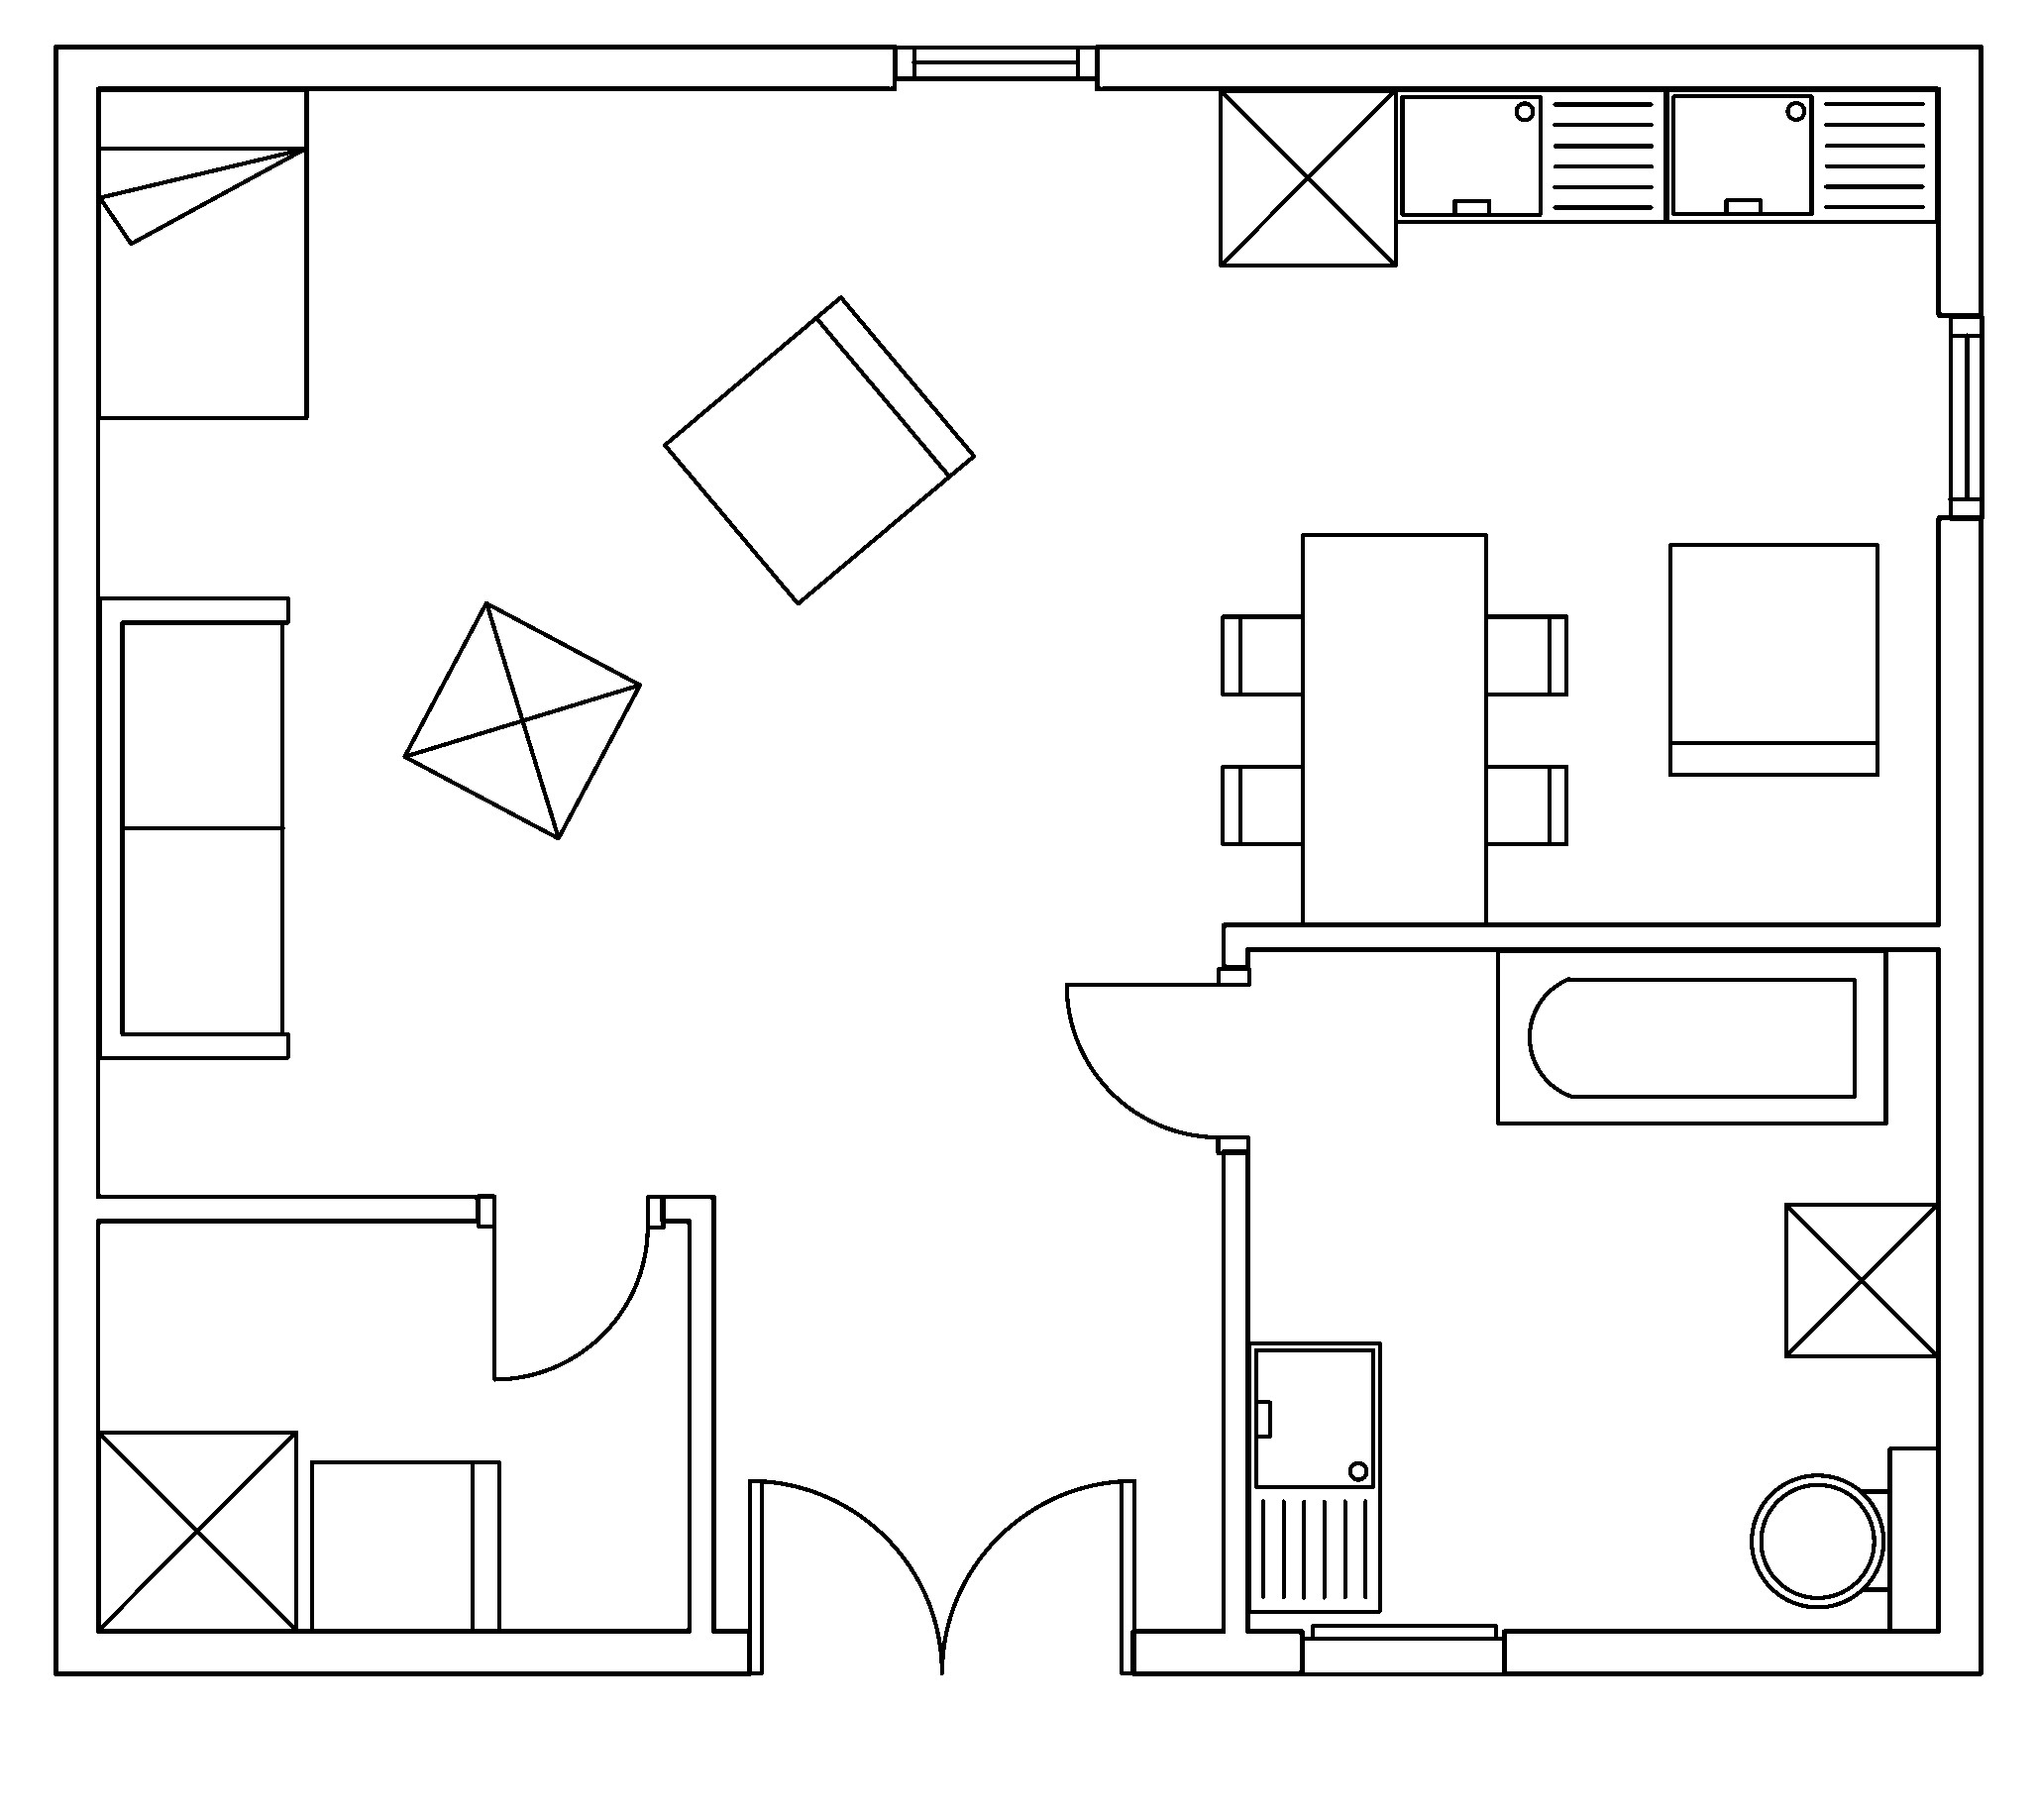bed: (95, 86, 309, 420)
coffee_table: (400, 599, 643, 840), (95, 1428, 299, 1632), (1217, 86, 1398, 267), (1781, 1202, 1940, 1358)
dining_table: (1219, 531, 1568, 926)
large_sink: (1749, 1444, 1940, 1632)
large_sofa: (97, 594, 290, 1059)
sink: (1663, 86, 1940, 223), (1245, 1339, 1382, 1614), (1393, 86, 1668, 223)
small_sofa: (660, 293, 976, 606), (1666, 541, 1879, 776), (307, 1458, 500, 1632)
tub: (1494, 947, 1888, 1126)
